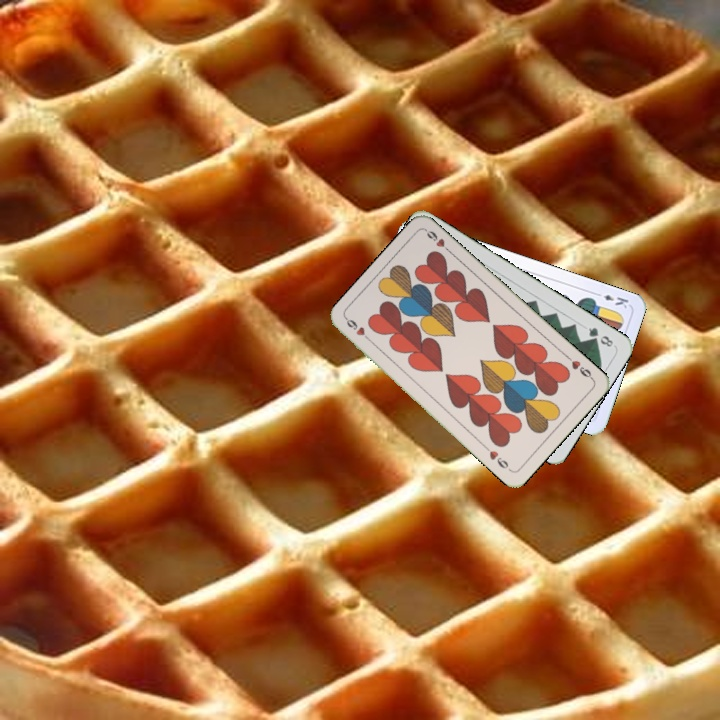EK: (591, 288, 631, 311)
G8: (584, 323, 616, 350)
H9: (342, 314, 375, 346), (563, 352, 596, 383)
